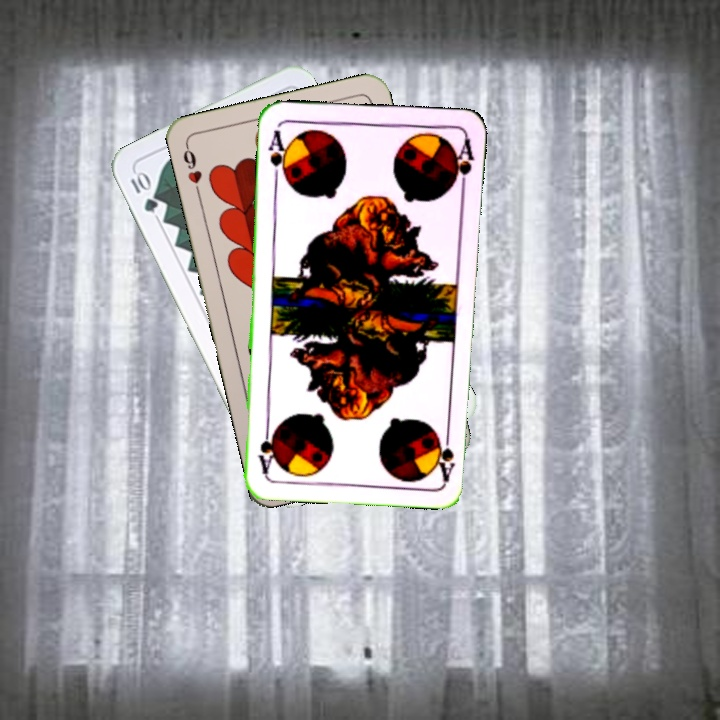G10: (126, 167, 161, 215)
H9: (179, 141, 205, 199)
SA: (264, 125, 291, 184), (434, 424, 458, 483)
